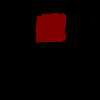gonna: (35, 12, 66, 43)
